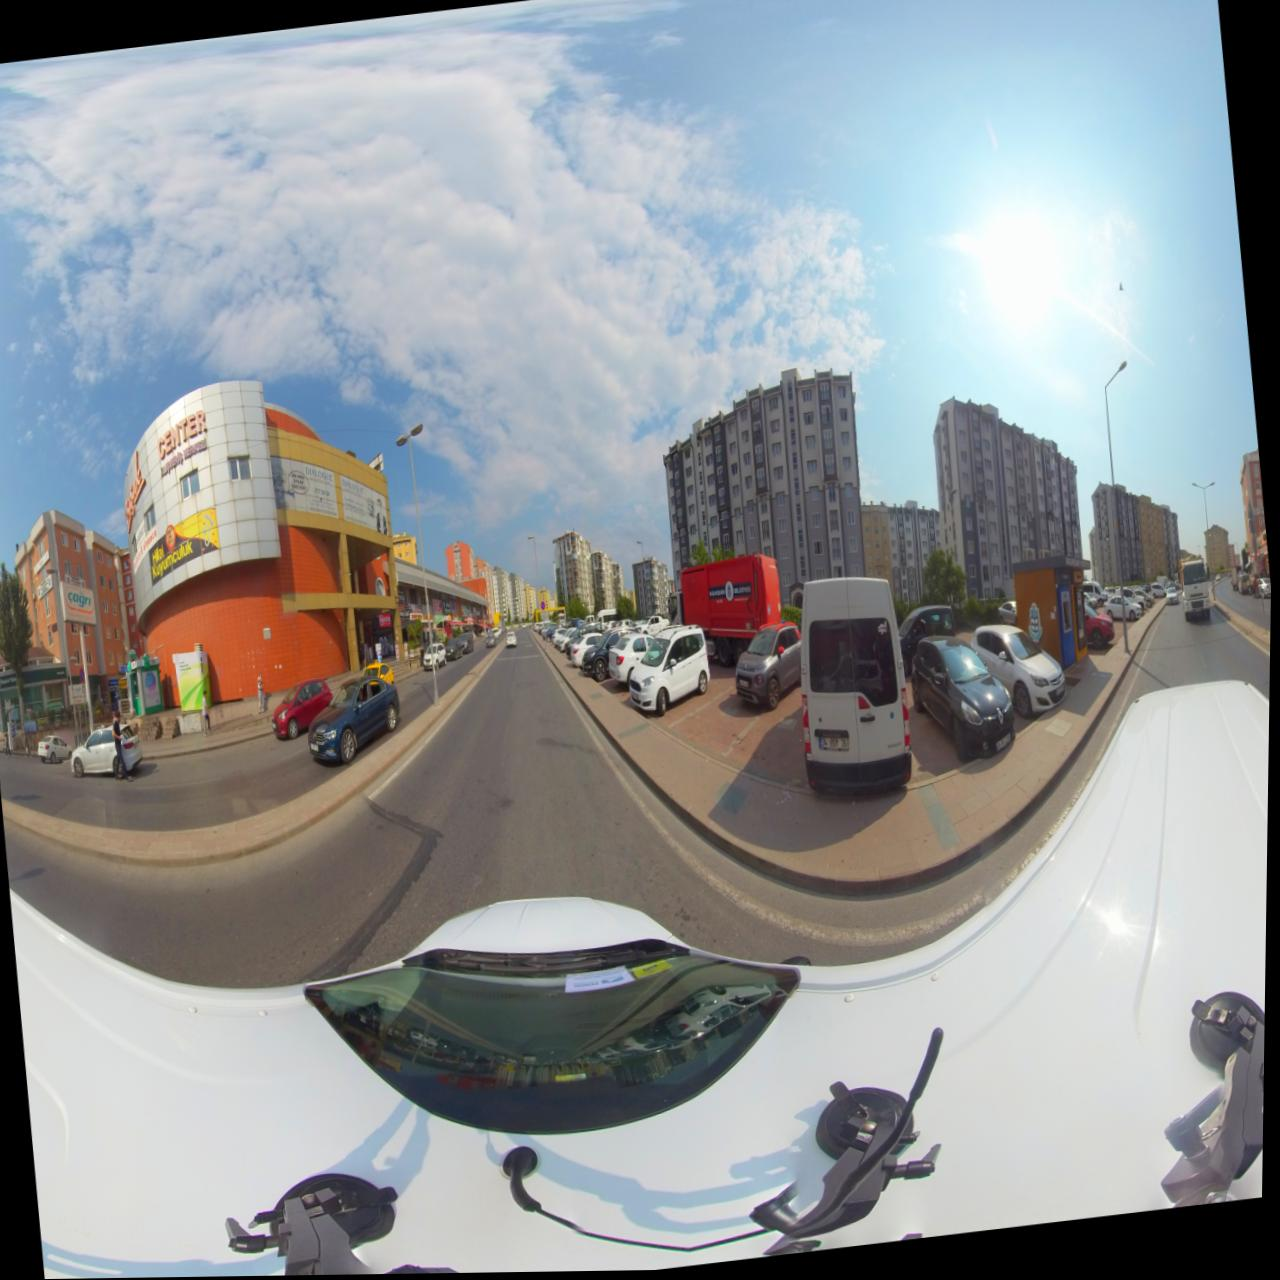SignStore: (0, 673, 19, 689), (381, 615, 393, 628), (413, 614, 425, 621), (402, 611, 411, 619), (110, 680, 121, 686), (437, 617, 444, 622)
